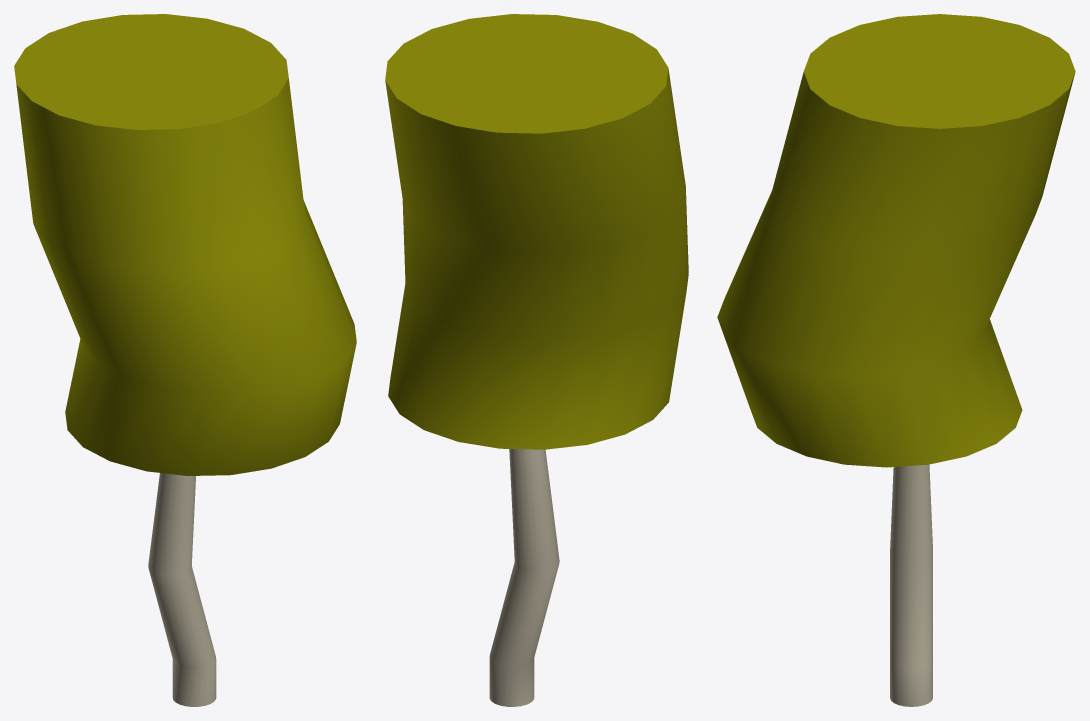
File: arbre1.fbx
3 views of the same model, side by side, from view 1: azimuth 30°, elevation 25°; view 2: azimuth 150°, elevation 25°; view 3: azimuth 270°, elevation 25° (orthographic). The views are drawn at different scales.
Parts seen in each view (by area): view 1: pasted__polySurface2; view 2: pasted__polySurface2; view 3: pasted__polySurface2.
Boxes of the visible parts, bbox=[...] form: pasted__polySurface2: bbox=[14, 14, 356, 706]; pasted__polySurface2: bbox=[385, 14, 688, 706]; pasted__polySurface2: bbox=[717, 14, 1075, 706].
Size of the model in its own units: 3.3 by 7.45 by 3.95.
